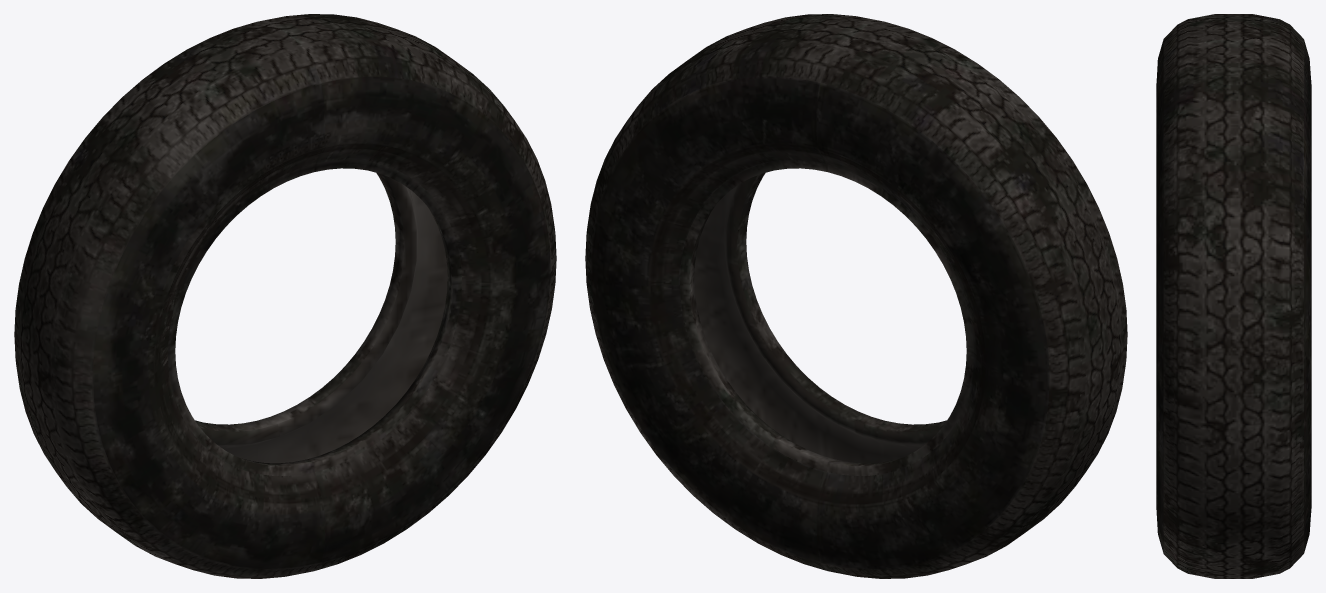
The model's file is old_tyre.glb.
3 views of the same model, side by side, from view 1: azimuth 30°, elevation 25°; view 2: azimuth 150°, elevation 25°; view 3: azimuth 270°, elevation 25° (orthographic). The views are drawn at different scales.
Visible parts, largest first — view 1: old_tyre; view 2: old_tyre; view 3: old_tyre.
Boxes of the visible parts, <box> form: old_tyre: <box>14,14,556,578</box>; old_tyre: <box>585,14,1127,578</box>; old_tyre: <box>1156,14,1311,578</box>.
Size of the model in its own units: 0.6 by 0.6 by 0.165.
Materials: 1 (1 with a texture image).
